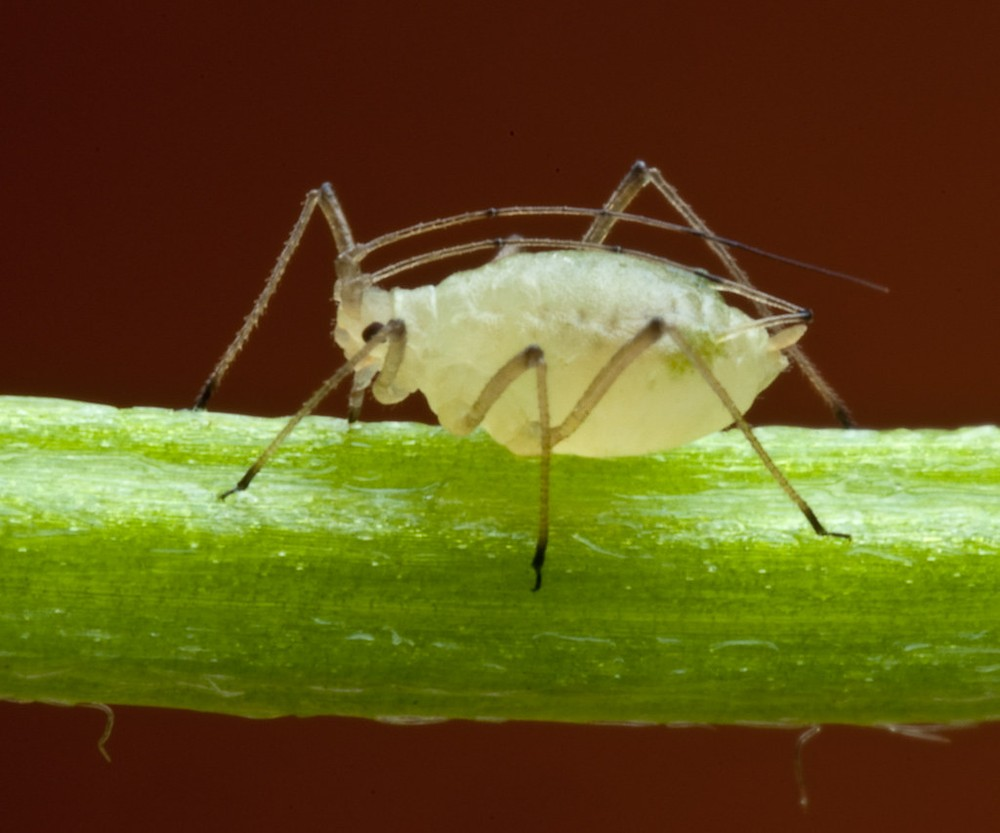Pulgon: (139, 119, 874, 582)
